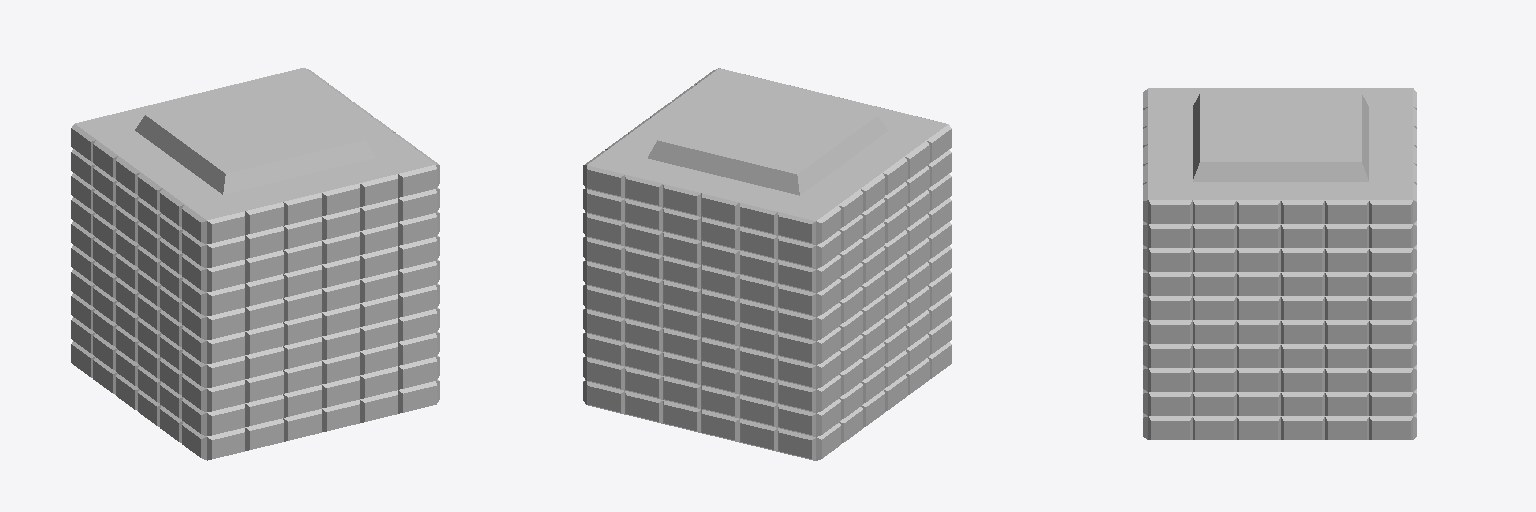
The model's file is stone_wall.obj.
The picture shows the model from 3 angles: view 1: azimuth 30°, elevation 25°; view 2: azimuth 150°, elevation 25°; view 3: azimuth 270°, elevation 25°; orthographic projection.
Visible parts, largest first — view 1: Cube; view 2: Cube; view 3: Cube.
Boxes of the visible parts, x1,y1,x2,y2 form: Cube: [71, 68, 439, 460]; Cube: [583, 68, 951, 460]; Cube: [1143, 88, 1416, 439].
Size of the model in its own units: 1.97 by 2.03 by 1.96.